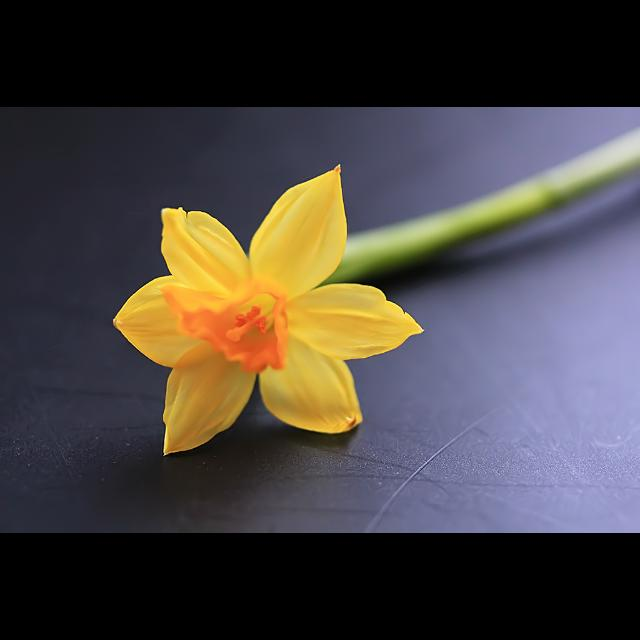Flower: (117, 176, 405, 452)
